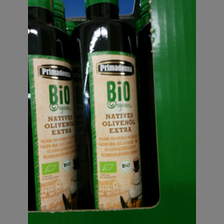oil: (73, 1, 148, 207), (28, 1, 82, 210)
